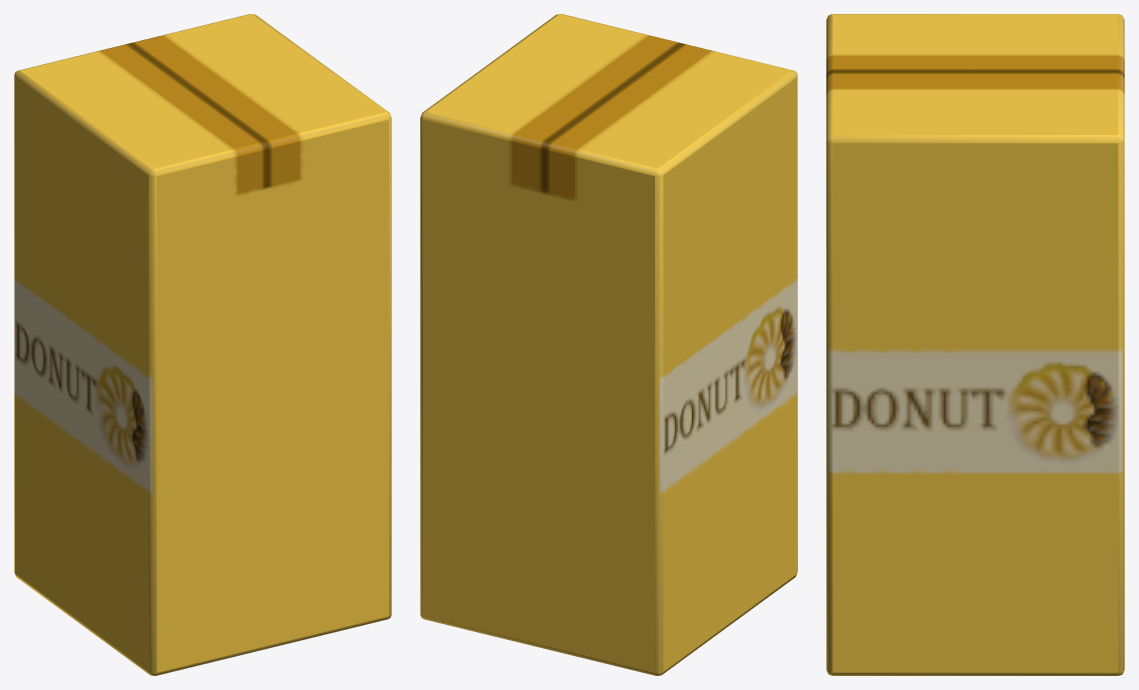
Rendered from tate2masu.fbx.
3 renders of one model, left to right at view 1: azimuth 30°, elevation 25°; view 2: azimuth 150°, elevation 25°; view 3: azimuth 270°, elevation 25°, orthographic. The views are drawn at different scales.
Visible parts, largest first — view 1: tate2; view 2: tate2; view 3: tate2.
Boxes of the visible parts, box(x1,y1,x2,y2) form: tate2: box(14, 14, 391, 675); tate2: box(420, 14, 797, 675); tate2: box(826, 14, 1124, 675).
Bounding box in the file's own units: 1 × 2 × 1.
1 material, 1 textured.
